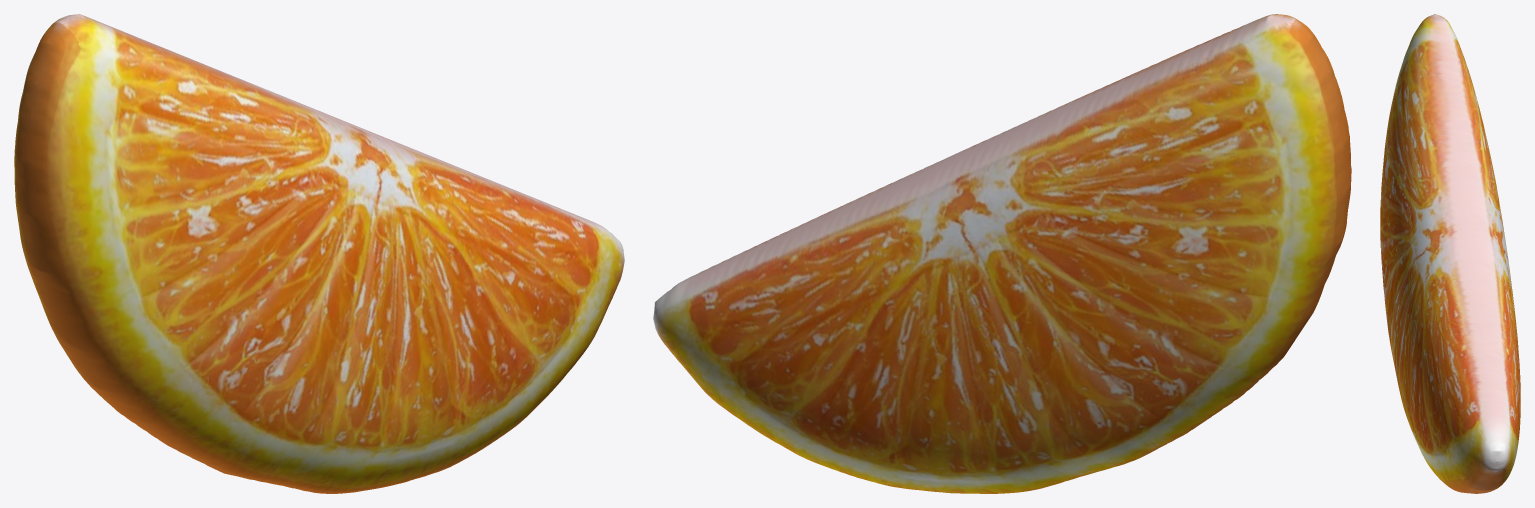
The model's file is Orange_slice.glb.
The picture shows the model from 3 angles, left to right: view 1: azimuth 30°, elevation 25°; view 2: azimuth 150°, elevation 25°; view 3: azimuth 270°, elevation 25°; orthographic projection. The views are drawn at different scales.
Visible parts, largest first — view 1: mesh_id34; view 2: mesh_id34; view 3: mesh_id34.
Boxes of the visible parts, box(x1,y1,x2,y2) form: mesh_id34: box(14, 14, 624, 493); mesh_id34: box(653, 14, 1351, 493); mesh_id34: box(1380, 14, 1520, 493).
Size of the model in its own units: 0.5098 by 0.4125 by 0.1514.
1 material, 1 textured.
